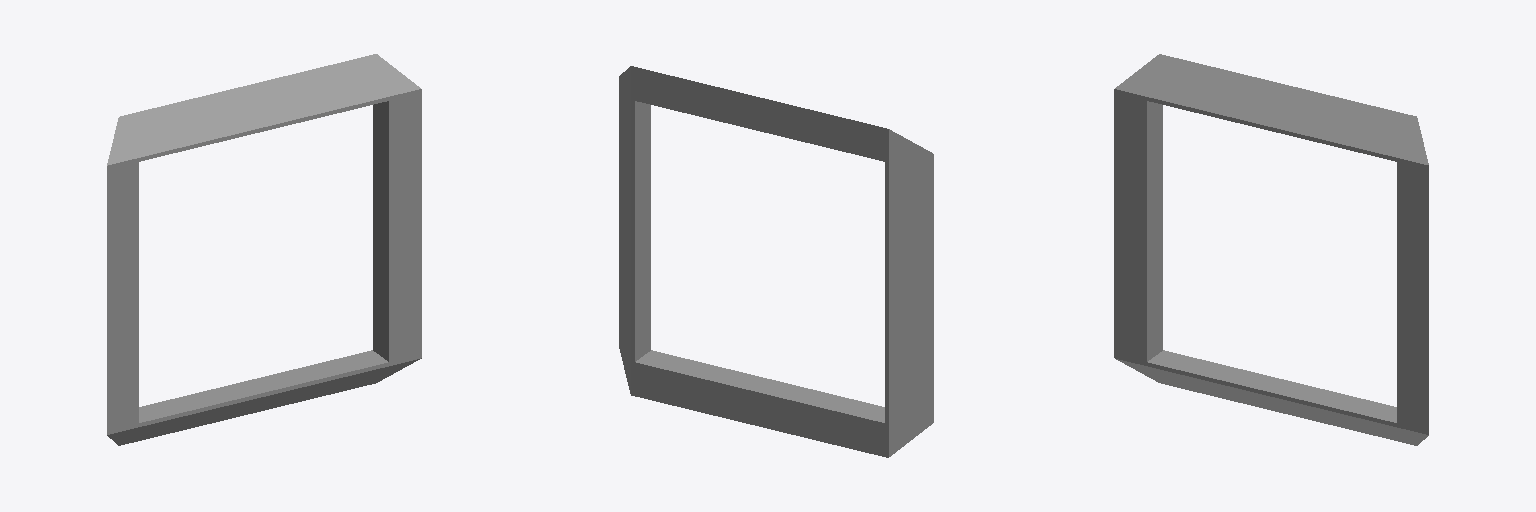
Rendered from TetraSquare.obj.
The picture shows the model from 3 angles: view 1: azimuth 30°, elevation 25°; view 2: azimuth 150°, elevation 25°; view 3: azimuth 330°, elevation 25°; orthographic projection.
Parts seen in each view (by area): view 1: Cube.006; view 2: Cube.006; view 3: Cube.006.
Part boxes in pixels (bbox=[...]): Cube.006: bbox=[107, 54, 421, 445]; Cube.006: bbox=[619, 66, 933, 457]; Cube.006: bbox=[1114, 54, 1428, 445].
Bounding box in the file's own units: 2.2 × 2.2 × 0.2.